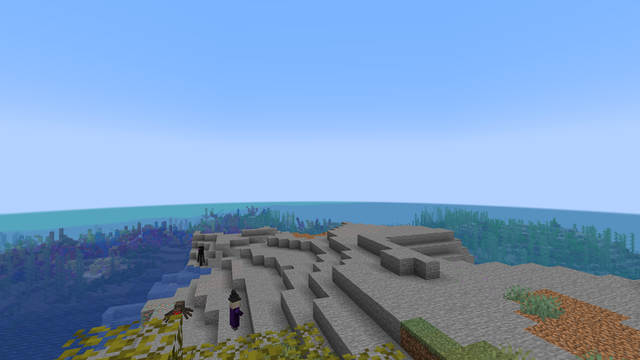araignees: (166, 299, 189, 318)
endermens: (198, 245, 202, 266)
sorcieres: (229, 295, 239, 331)
